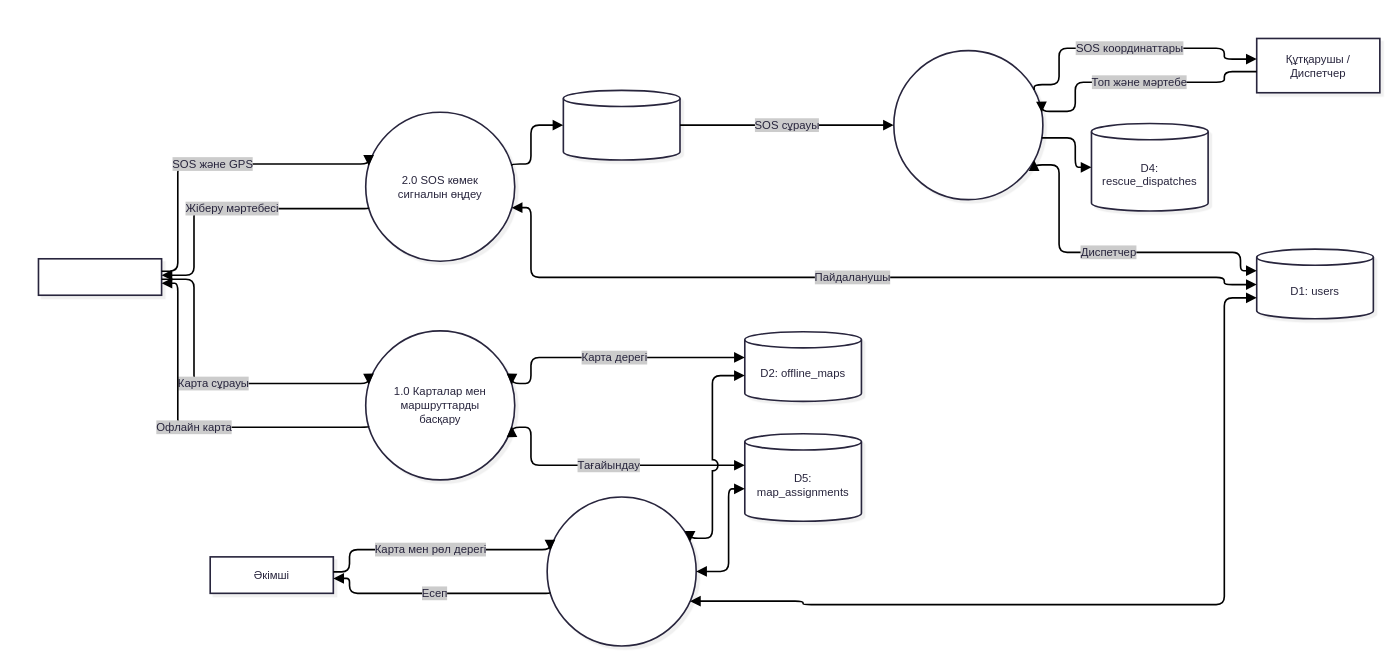
Some shapes in this 1397 by 663 pixel diagram are drawn without their labels. Each missing label, with the centre of its shape:
3.0 Құтқару әрекетін үйлестіру: the point at 970,126
4.0 Жүйе мен рөлдерді басқару: the point at 623,573
D3: sos_requests: the point at 623,126
Турист: the point at 101,278
